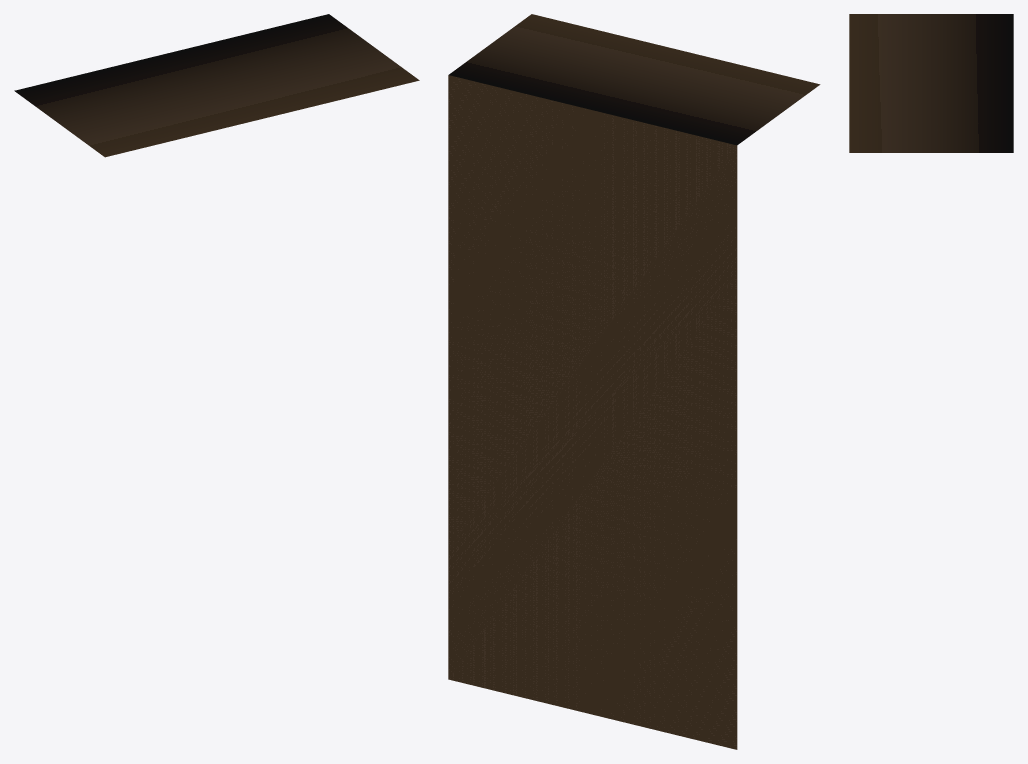
3 renders of one model, left to right at view 1: azimuth 30°, elevation 25°; view 2: azimuth 150°, elevation 25°; view 3: azimuth 270°, elevation 25°, orthographic. The views are drawn at different scales.
Size of the model in its own units: 1 by 2 by 0.5.
Materials: 1 (1 with a texture image).
